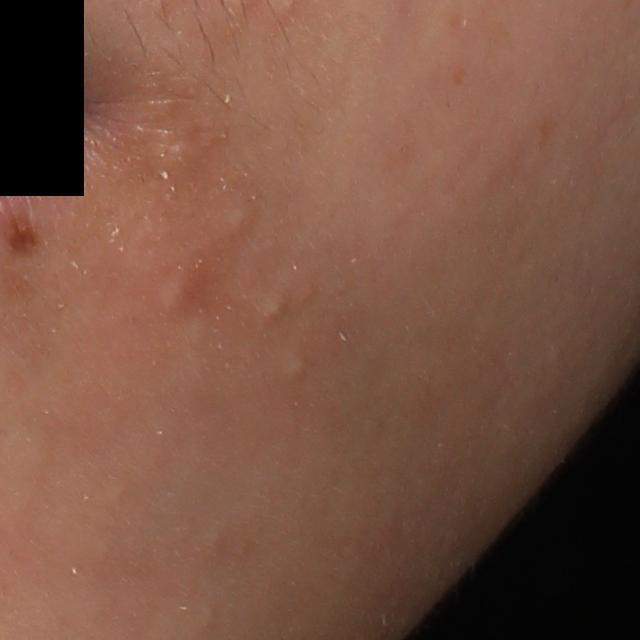comedo: (158, 276, 195, 322), (258, 290, 290, 328), (226, 205, 254, 238), (282, 357, 306, 383)
nevus: (3, 206, 44, 260)
